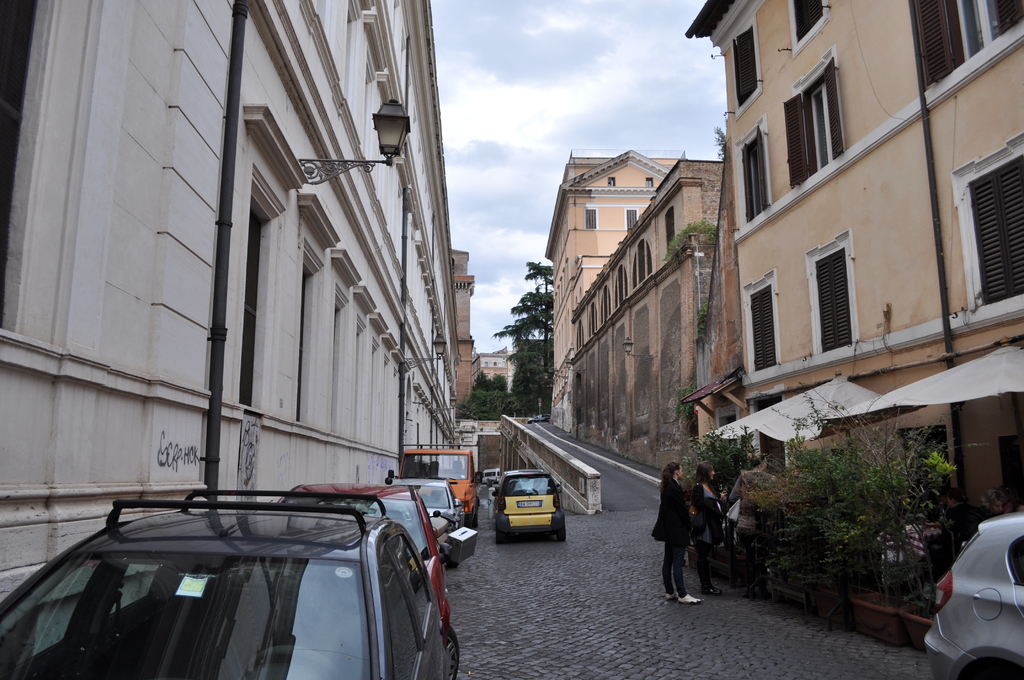cars: (0, 489, 442, 679), (268, 467, 452, 618), (924, 508, 1019, 678), (495, 472, 570, 539), (387, 478, 457, 519)
